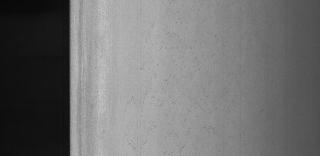silk spot: (136, 8, 232, 146)
